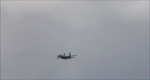maybay_muctieu: (55, 51, 76, 62)
